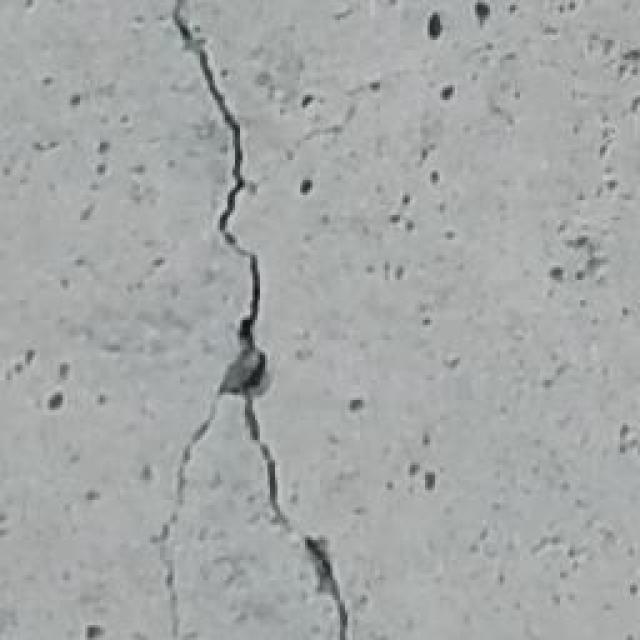concrete-crack: (156, 3, 350, 640)
